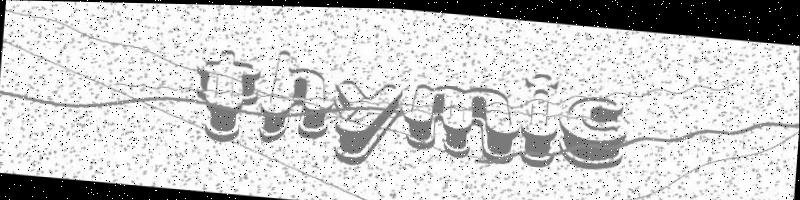c: (557, 92, 629, 169)
h: (260, 47, 335, 146)
i: (519, 71, 560, 164)
m: (402, 80, 523, 161)
t: (193, 46, 260, 143)
y: (329, 76, 405, 166)
